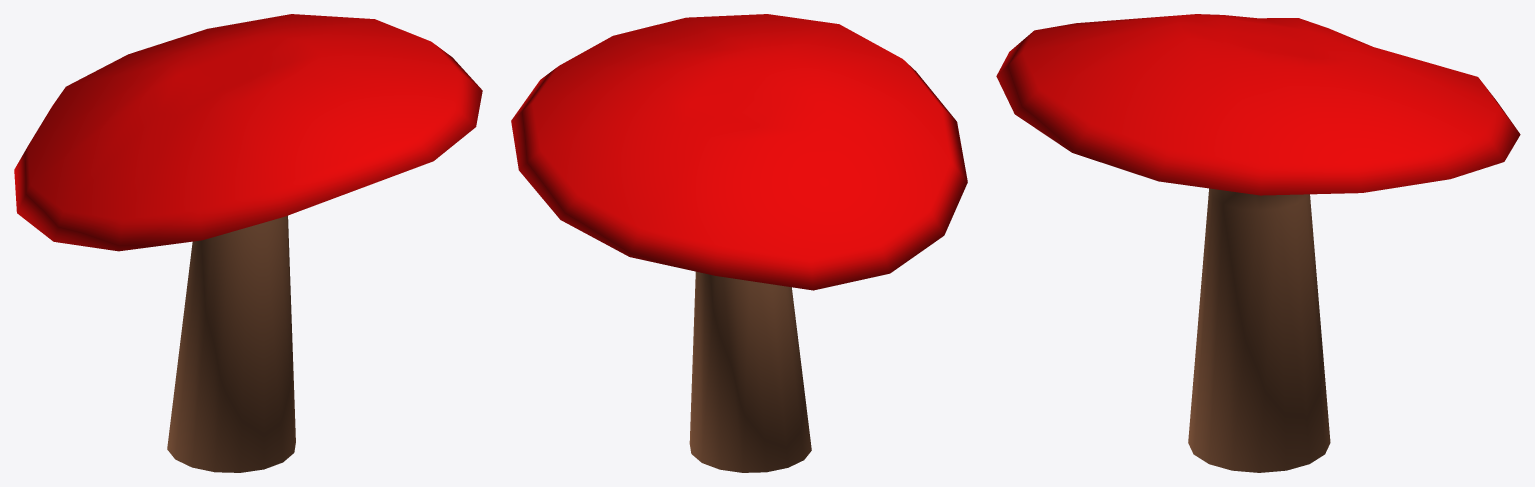
The model's file is Mushroom 1.fbx.
3 views of the same model, side by side, from view 1: azimuth 30°, elevation 25°; view 2: azimuth 150°, elevation 25°; view 3: azimuth 270°, elevation 25° (orthographic). The views are drawn at different scales.
Visible parts, largest first — view 1: Cube.020; view 2: Cube.020; view 3: Cube.020.
Boxes of the visible parts, box(x1,y1,x2,y2) form: Cube.020: box(14, 14, 482, 472); Cube.020: box(511, 14, 967, 472); Cube.020: box(996, 14, 1520, 472).
Size of the model in its own units: 34.15 by 30.68 by 34.31.
